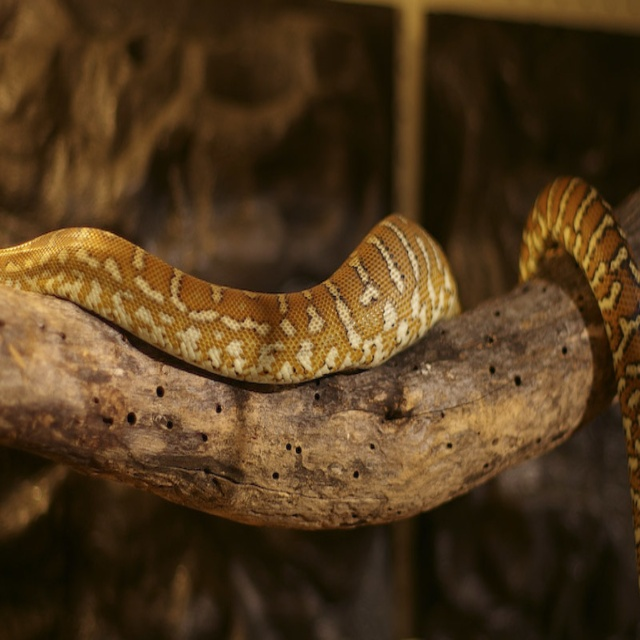Snake: (0, 173, 639, 570)
